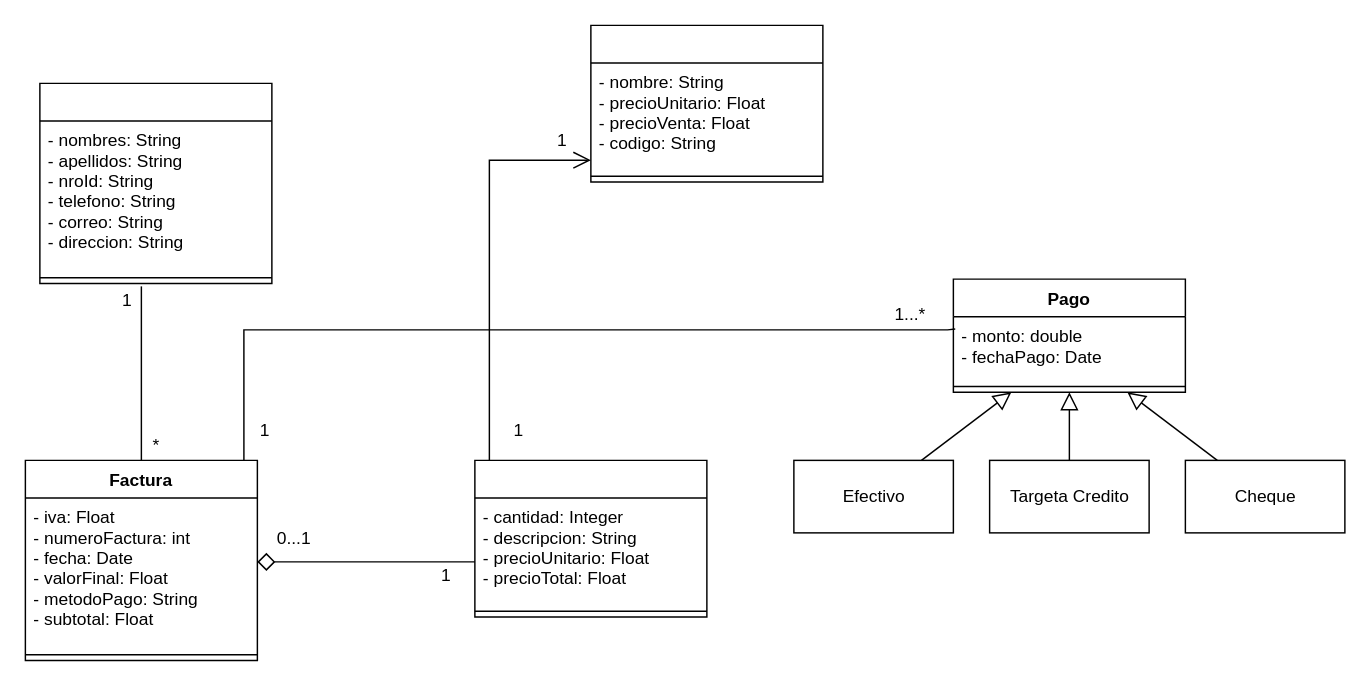
Image size: 1370x686. Some labels were removed from this diagram. The box of each missing label's shape, as (x1, y1, x2, y2) in pixels:
Cliente: (38, 82, 272, 283)
DetalleFactura: (473, 459, 707, 617)
Producto: (589, 24, 823, 182)
